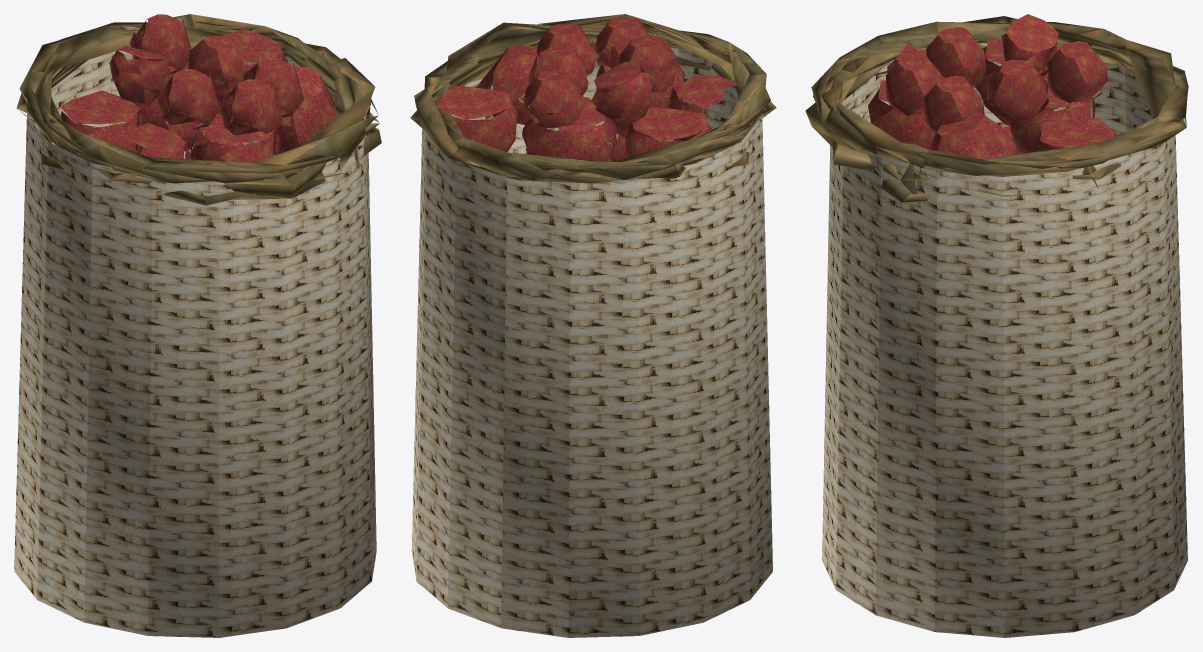
The model's file is basketwickerdeepapples.glb.
3 views of the same model, side by side, from view 1: azimuth 30°, elevation 25°; view 2: azimuth 150°, elevation 25°; view 3: azimuth 270°, elevation 25° (orthographic).
Parts seen in each view (by area): view 1: Cylinder, apples; view 2: Cylinder, apples; view 3: Cylinder, apples.
Boxes of the visible parts, x1,y1,x2,y2 form: Cylinder: [14, 14, 381, 637]; apples: [60, 14, 337, 162]; Cylinder: [410, 14, 776, 637]; apples: [435, 17, 755, 161]; Cylinder: [805, 16, 1188, 637]; apples: [868, 14, 1116, 159].
Size of the model in its own units: 1.59 by 2.48 by 1.66.
3 materials, 3 textured.
